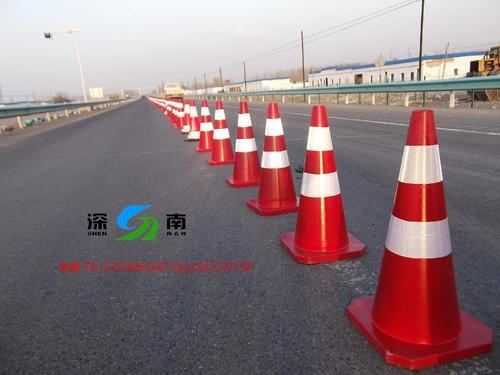cone_barrel: (359, 114, 469, 365), (280, 110, 360, 262), (251, 102, 298, 213), (226, 100, 261, 187), (206, 97, 232, 165), (193, 97, 212, 152), (185, 98, 198, 138)
